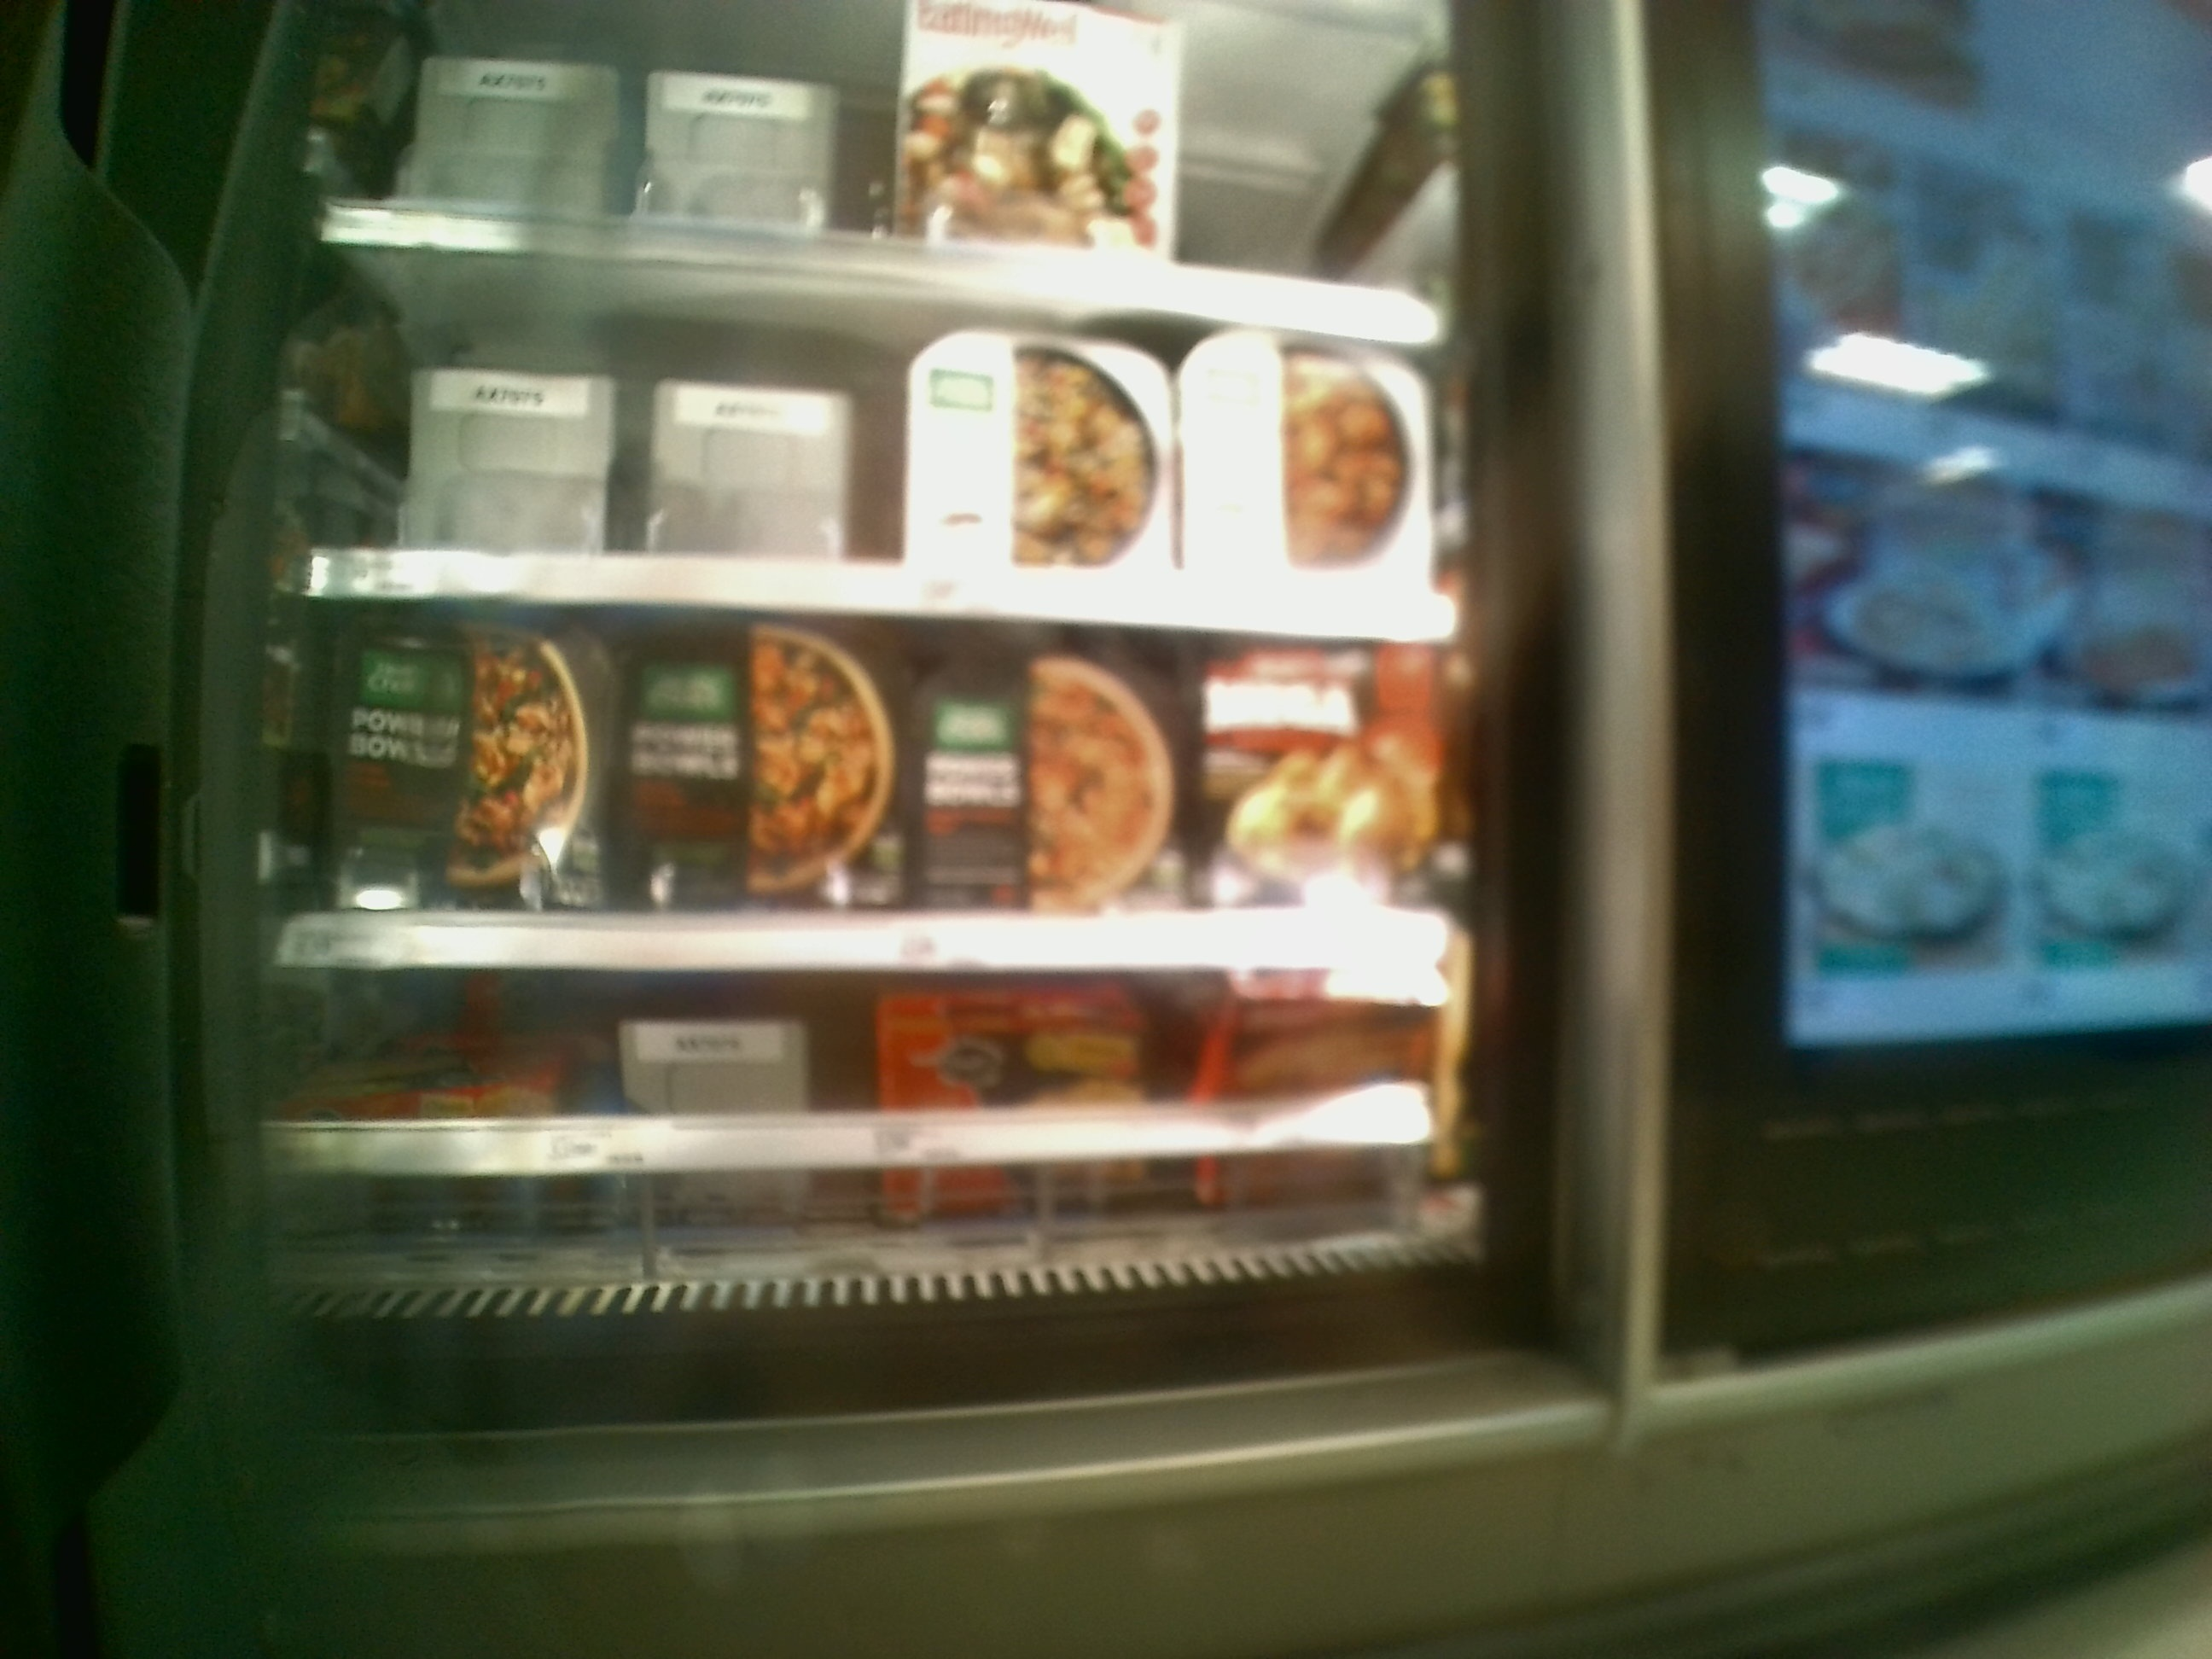Shelf: (289, 232, 1453, 638), (291, 598, 1463, 983), (239, 971, 1489, 1303)
